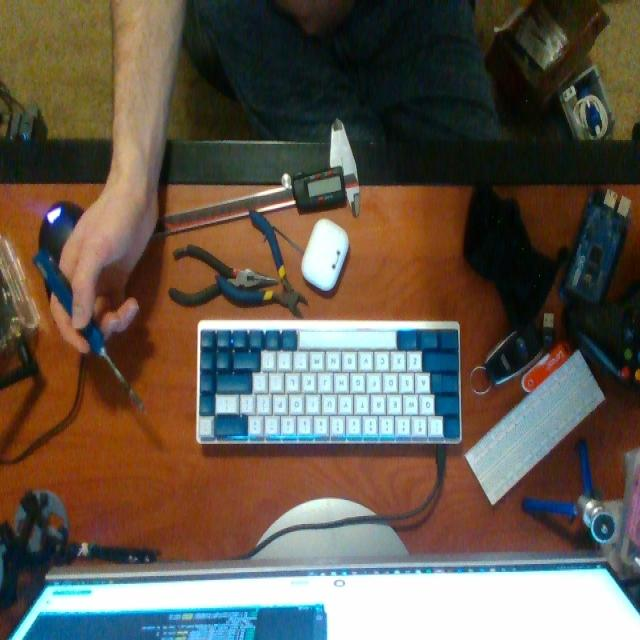keyboard: (197, 323, 461, 438)
